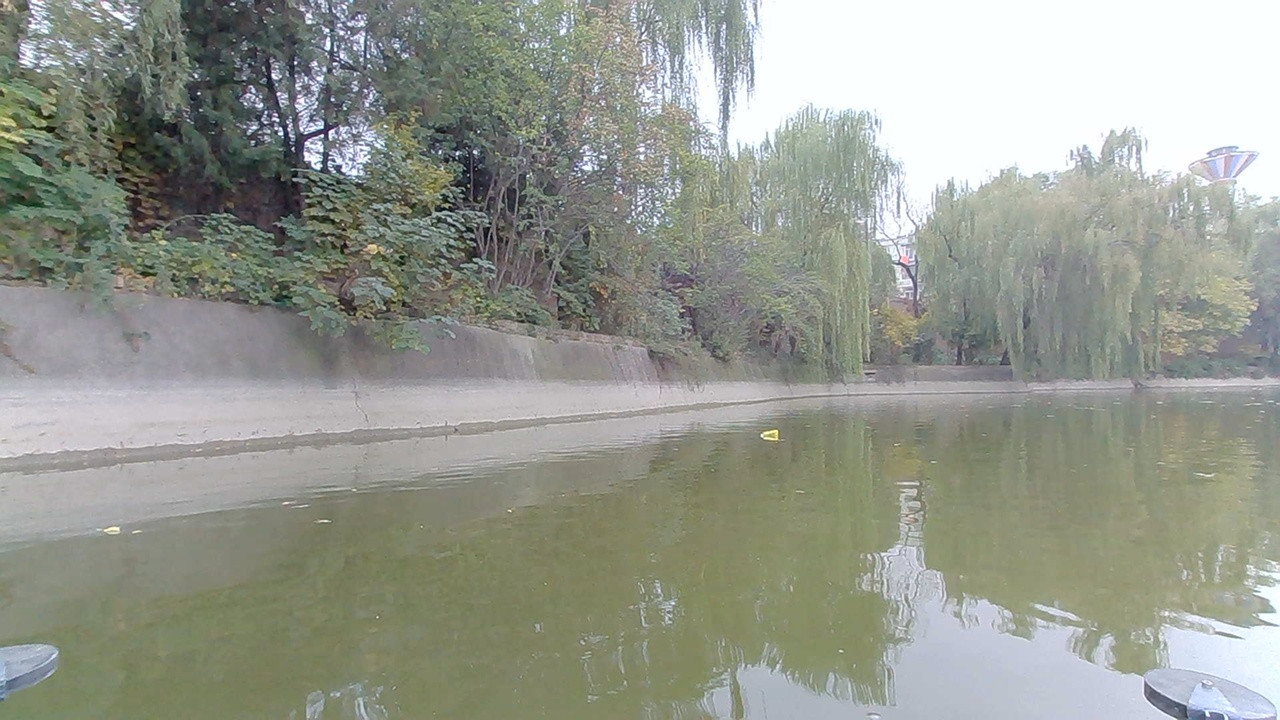bottle: (755, 424, 789, 447)
